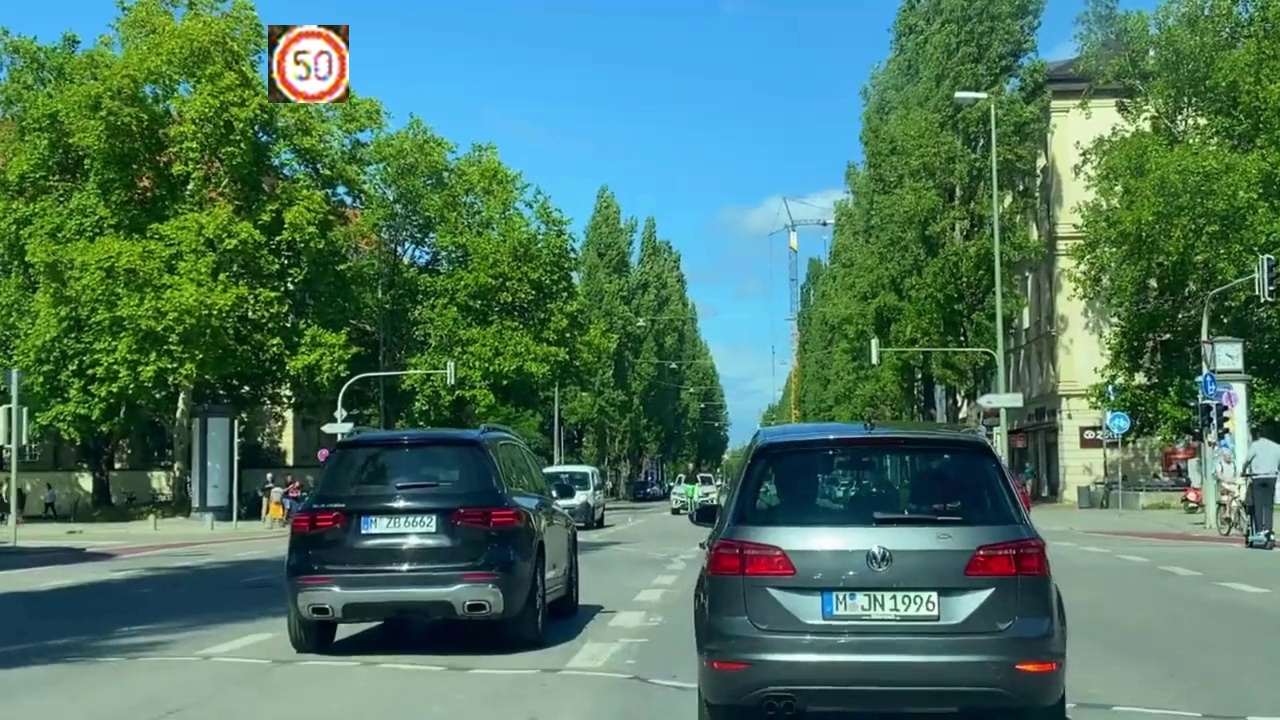Speed 50: (268, 25, 349, 103)
